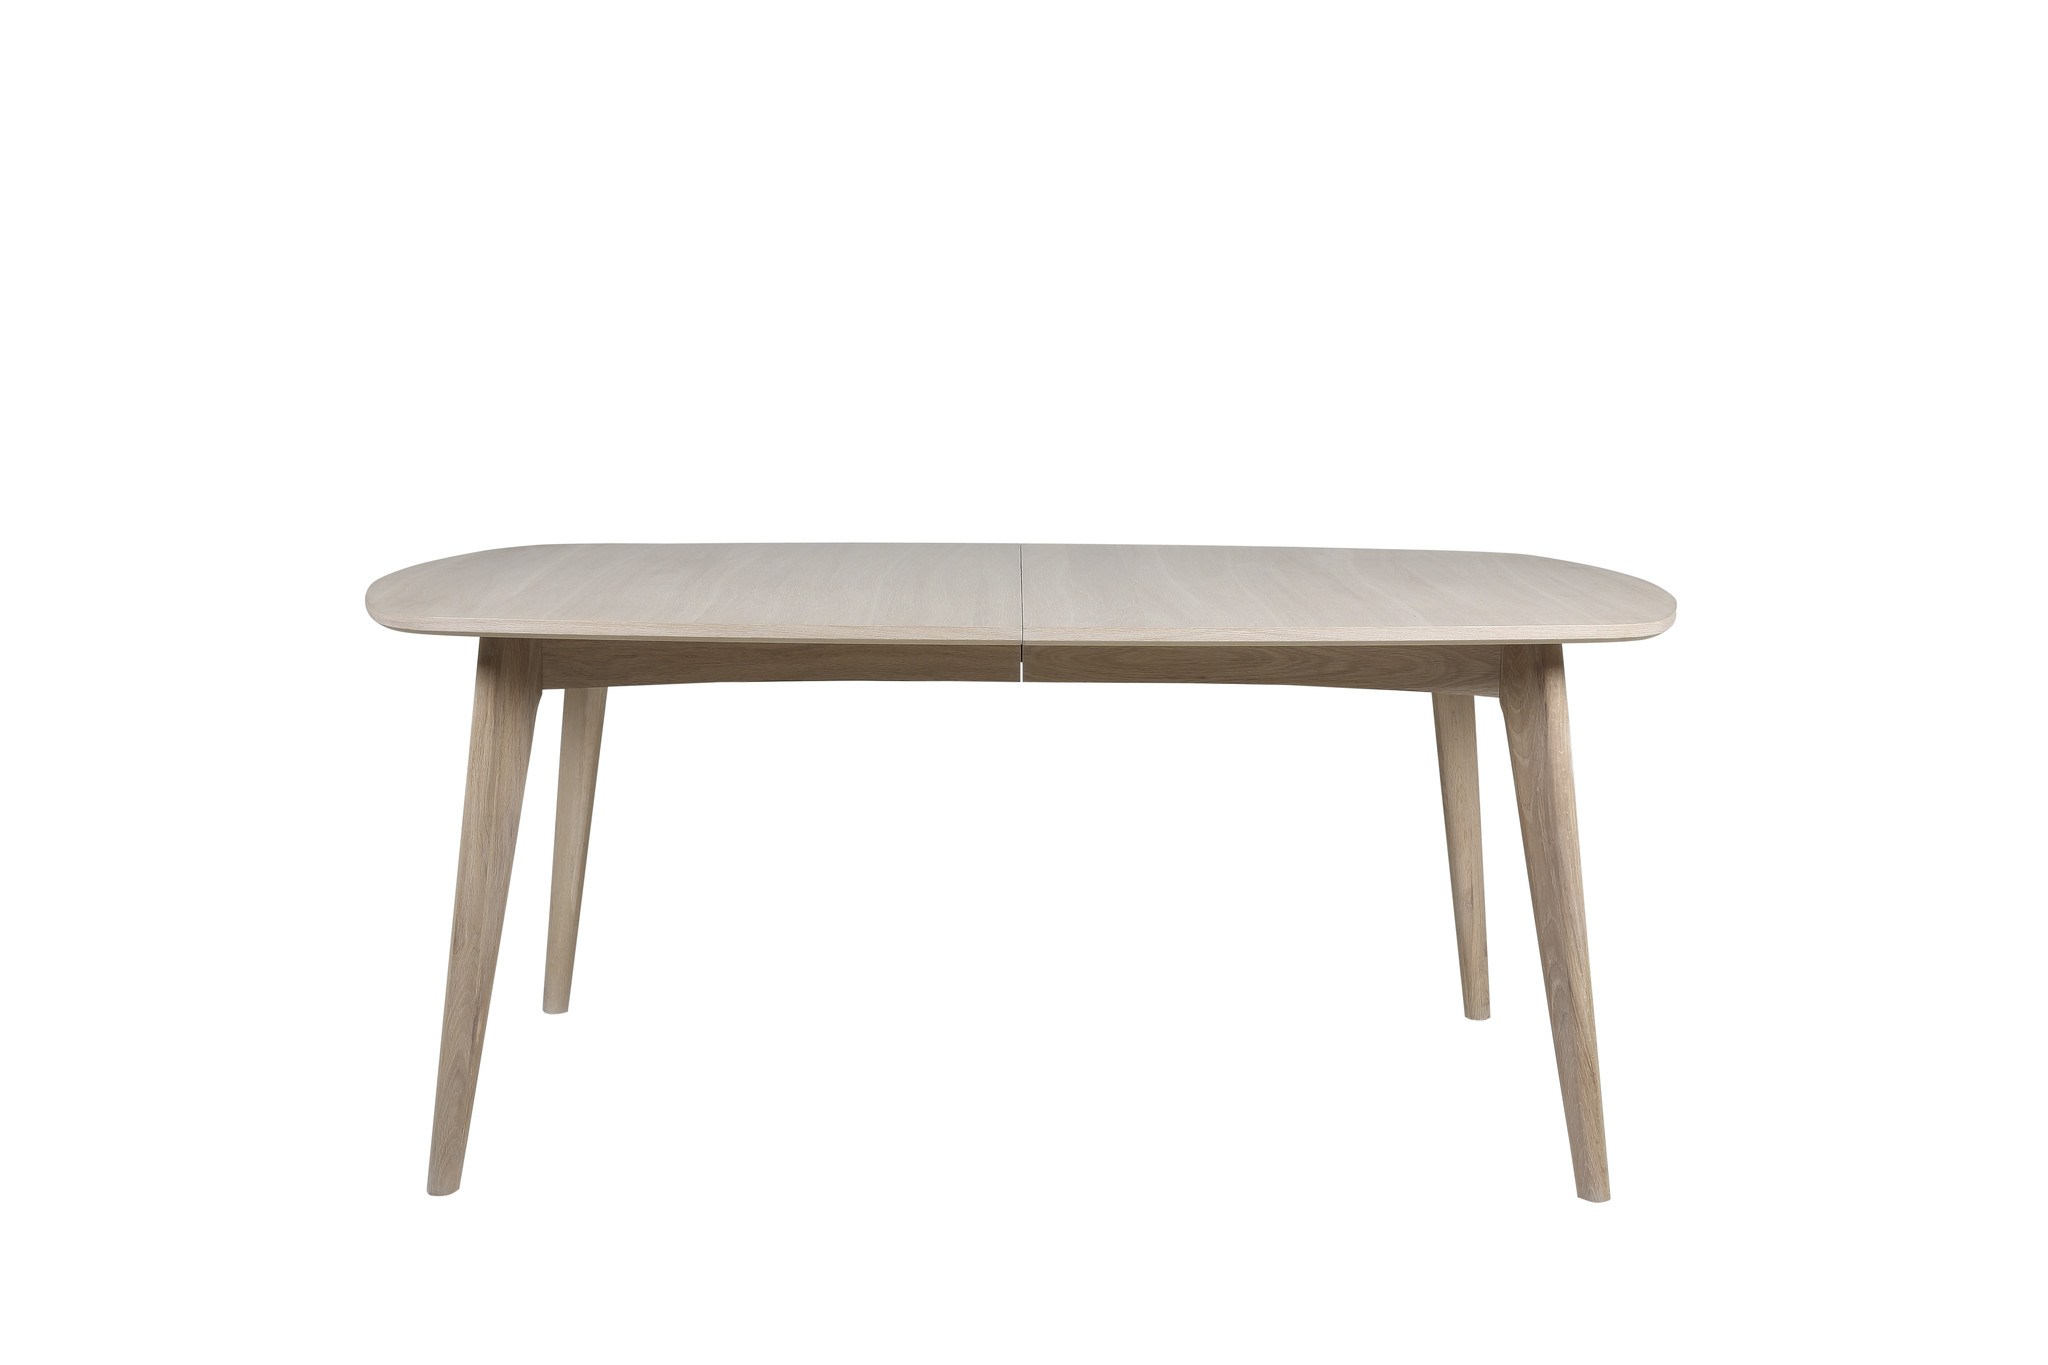meja: (362, 536, 1680, 1202)
